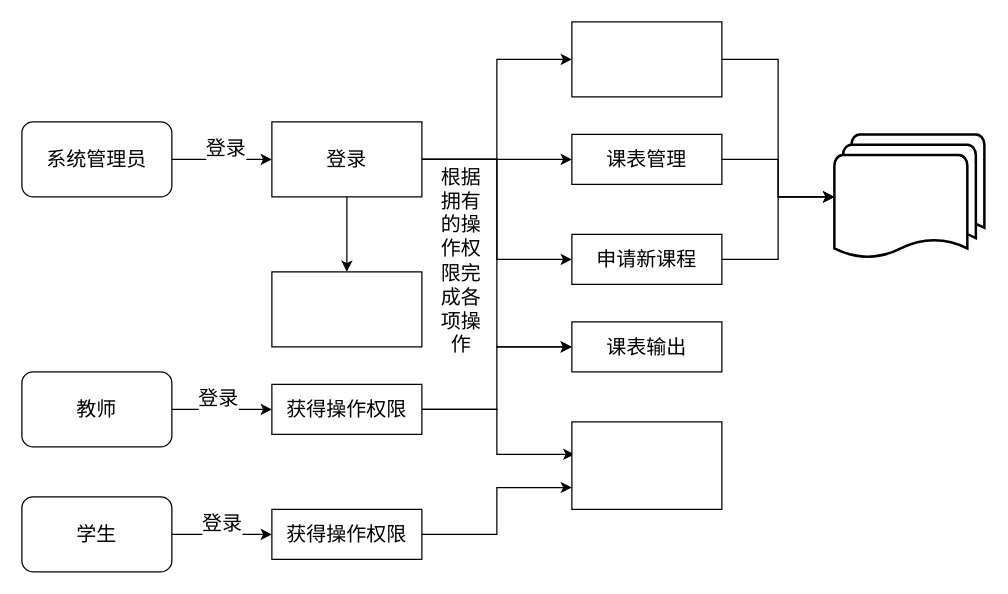
Some shapes in this 1008 by 594 pixel diagram are drawn without their labels. The centre of each missing label's shape, as x and y in pixels:
"基础条件设置" goes at point 646,59.
"查看课表" goes at point 646,465.
"添加到后台数据库" goes at point 908,196.
"系统管理" goes at point 346,309.
